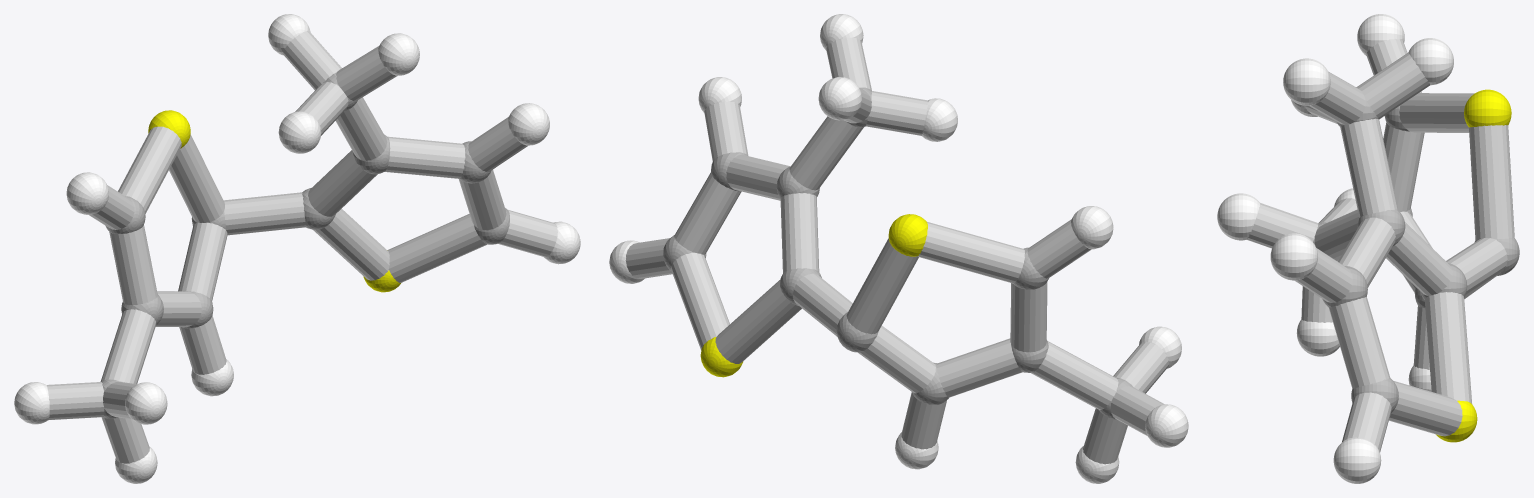
File: Methylthiophene_Phi_60_Theta_40_Methylthiophene.glb
3 views of the same model, side by side, from view 1: azimuth 30°, elevation 25°; view 2: azimuth 150°, elevation 25°; view 3: azimuth 270°, elevation 25° (orthographic). The views are drawn at different scales.
Visible parts, largest first — view 1: grp7965, grp3621, grp1, grp7241; view 2: grp7965, grp3621, grp1, grp7241; view 3: grp7965, grp3621, grp1, grp7241.
Part boxes in pixels (x1,y1,x2,y2): grp7965: (47,31,557,463); grp3621: (14,14,580,483); grp1: (101,72,509,418); grp7241: (148,110,400,292); grp7965: (625,37,1169,464); grp3621: (609,14,1188,483); grp1: (663,87,1132,419); grp7241: (700,214,927,377); grp7965: (1247,38,1514,452); grp3621: (1217,14,1453,483); grp1: (1313,87,1519,412); grp7241: (1436,89,1511,442).
Size of the model in its own units: 9.1 by 6.03 by 3.81.
